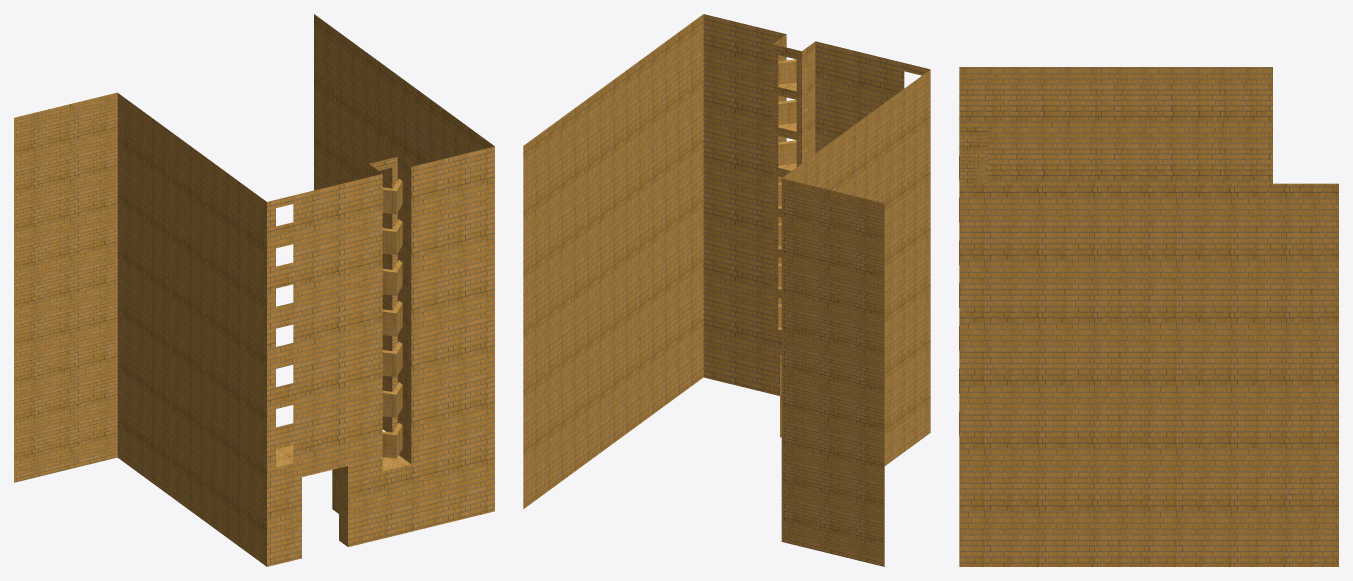
Rendered from OIC.fbx.
The picture shows the model from 3 angles, left to right: view 1: azimuth 30°, elevation 25°; view 2: azimuth 150°, elevation 25°; view 3: azimuth 270°, elevation 25°; orthographic projection. The views are drawn at different scales.
Visible parts, largest first — view 1: oic; view 2: oic; view 3: oic.
Part boxes in pixels (<box>): oic: <box>14,14,494,566</box>; oic: <box>523,14,930,566</box>; oic: <box>959,67,1338,566</box>.
Bounding box in the file's own units: 2562 × 2697 × 2422.
